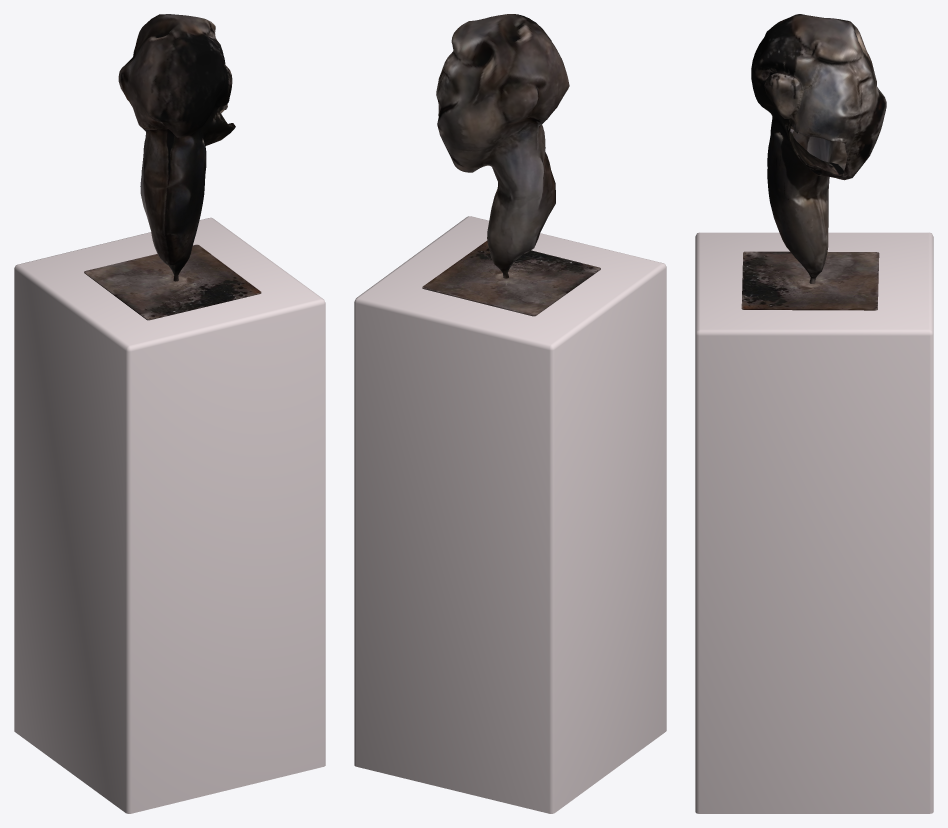
The model's file is 4-melnikovplastikatrio-1.fbx.
3 views of the same model, side by side, from view 1: azimuth 30°, elevation 25°; view 2: azimuth 150°, elevation 25°; view 3: azimuth 270°, elevation 25° (orthographic). The views are drawn at different scales.
Visible parts, largest first — view 1: 4-melnikovplastikatrio-1; view 2: 4-melnikovplastikatrio-1; view 3: 4-melnikovplastikatrio-1.
Boxes of the visible parts, x1,y1,x2,y2 form: 4-melnikovplastikatrio-1: (14, 14, 325, 813); 4-melnikovplastikatrio-1: (354, 14, 666, 813); 4-melnikovplastikatrio-1: (695, 14, 933, 813).
Size of the model in its own units: 53.75 by 187 by 53.75.
